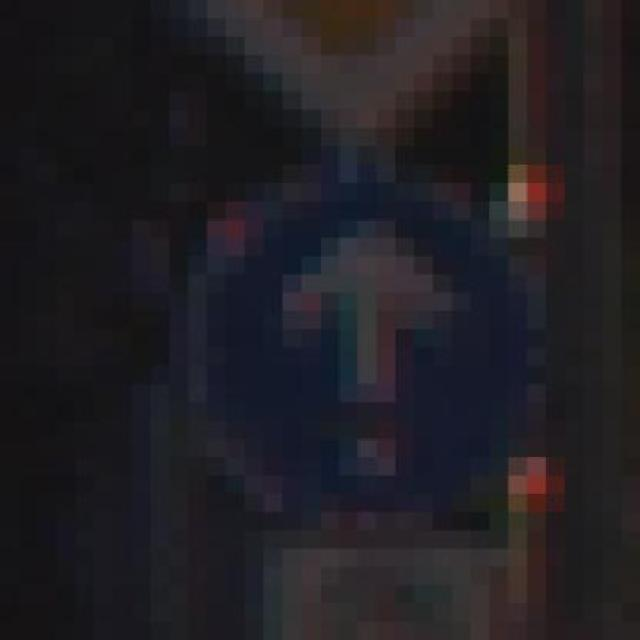Straight Ahead Only: (132, 146, 566, 549)
